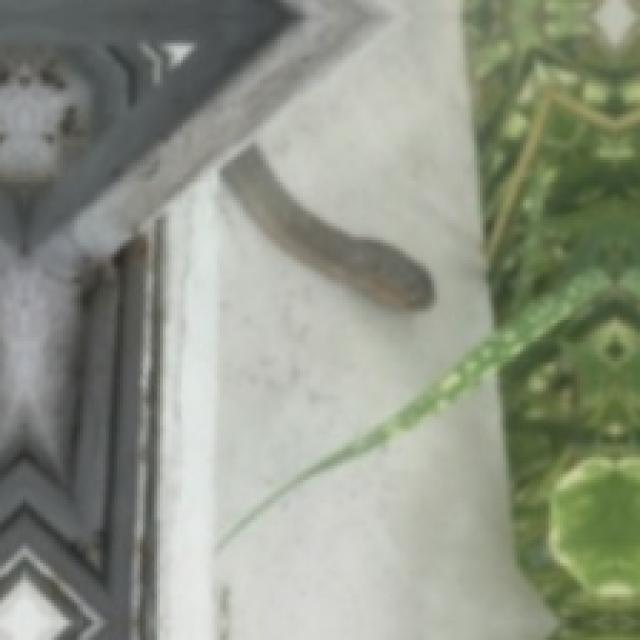philippine cobra: (223, 146, 431, 306)
